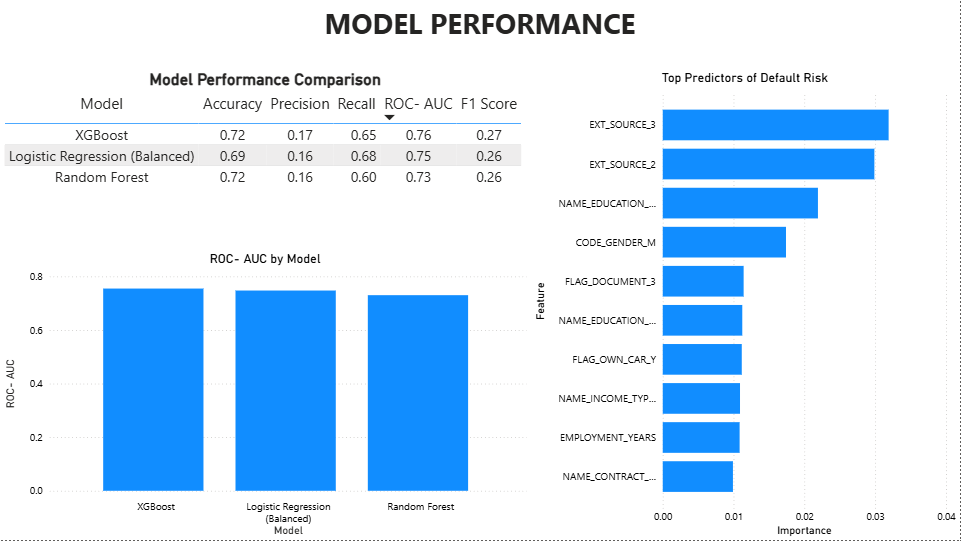

The dashboard page shown, as its layout file describes it:
{"tool":"powerbi","page":{"name":"Page 3","canvas":[1280,720],"ordinal":2},"visuals":[{"type":"textbox","box":[0,0,1280,61.4],"z":0},{"type":"tableEx","title":"Model Performance Comparison","fields":{"Values":["model_comparison.Model","Sum(model_comparison.Accuracy)","Sum(model_comparison.Precision)","Sum(model_comparison.Recall)","Sum(model_comparison.ROC_AUC)","Sum(model_comparison.F1_Score)"]},"box":[0,92.9,707.1,241.4],"z":1000},{"type":"clusteredColumnChart","title":"ROC- AUC by Model","fields":{"Category":["model_comparison.Model"],"Y":["Sum(model_comparison.ROC_AUC)"]},"box":[0,334.3,707.1,385.7],"z":2000},{"type":"clusteredBarChart","title":"Top Predictors of Default Risk","fields":{"Category":["feature_importance.Feature"],"Y":["Sum(feature_importance.Importance)"]},"box":[707.1,92.9,572.9,627.1],"z":3000}]}

Visuals, with their boxes in screenshot pixels (x1, y1, x2, y2), scaled from the page's 1280x720 canvas onto the 961x541 screenshot:
textbox: (0, 0, 960, 46)
"Model Performance Comparison" tableEx: (0, 70, 531, 251)
"ROC- AUC by Model" clusteredColumnChart: (0, 251, 531, 540)
"Top Predictors of Default Risk" clusteredBarChart: (531, 70, 960, 540)
